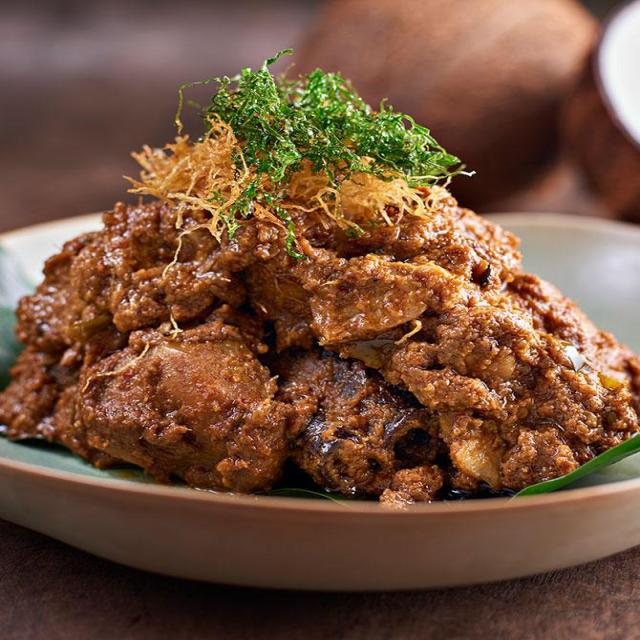Rendang: (0, 114, 640, 527)
